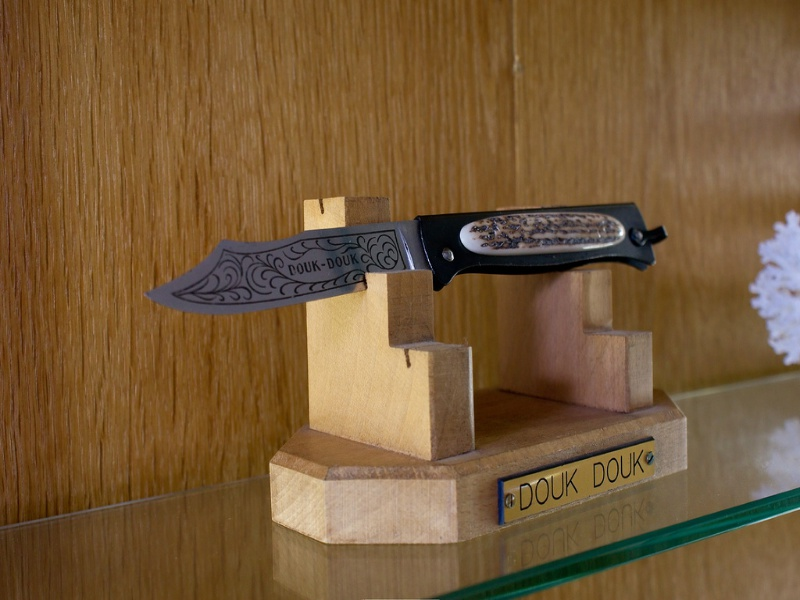knife: (139, 199, 668, 322)
